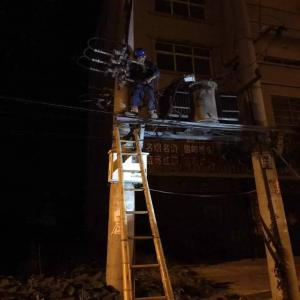blue: (134, 48, 148, 64)
